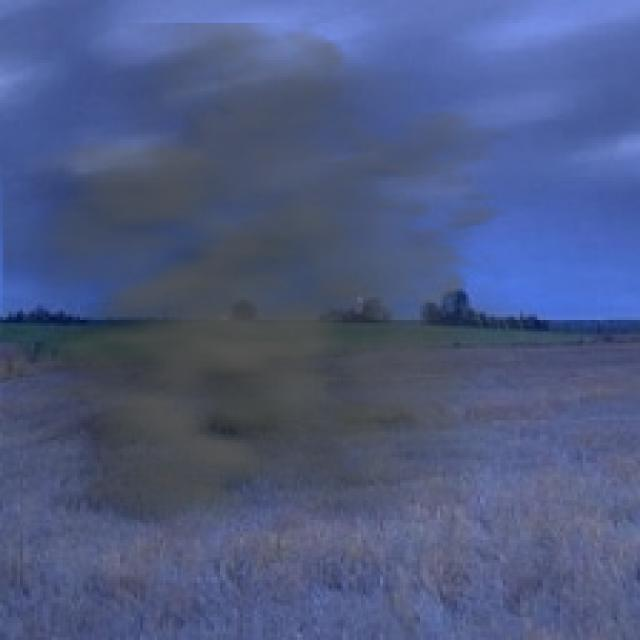Smoke: (3, 23, 566, 563)
